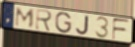3: (94, 16, 110, 40)
F: (112, 18, 130, 41)
G: (55, 11, 72, 34)
J: (75, 15, 91, 36)
M: (14, 6, 36, 29)
R: (34, 8, 54, 33)
